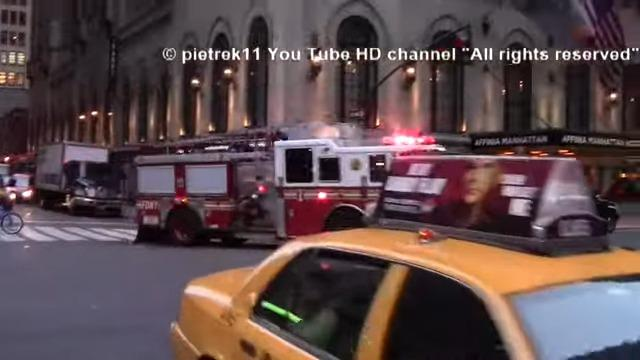Fire-engine: (131, 122, 446, 247)
